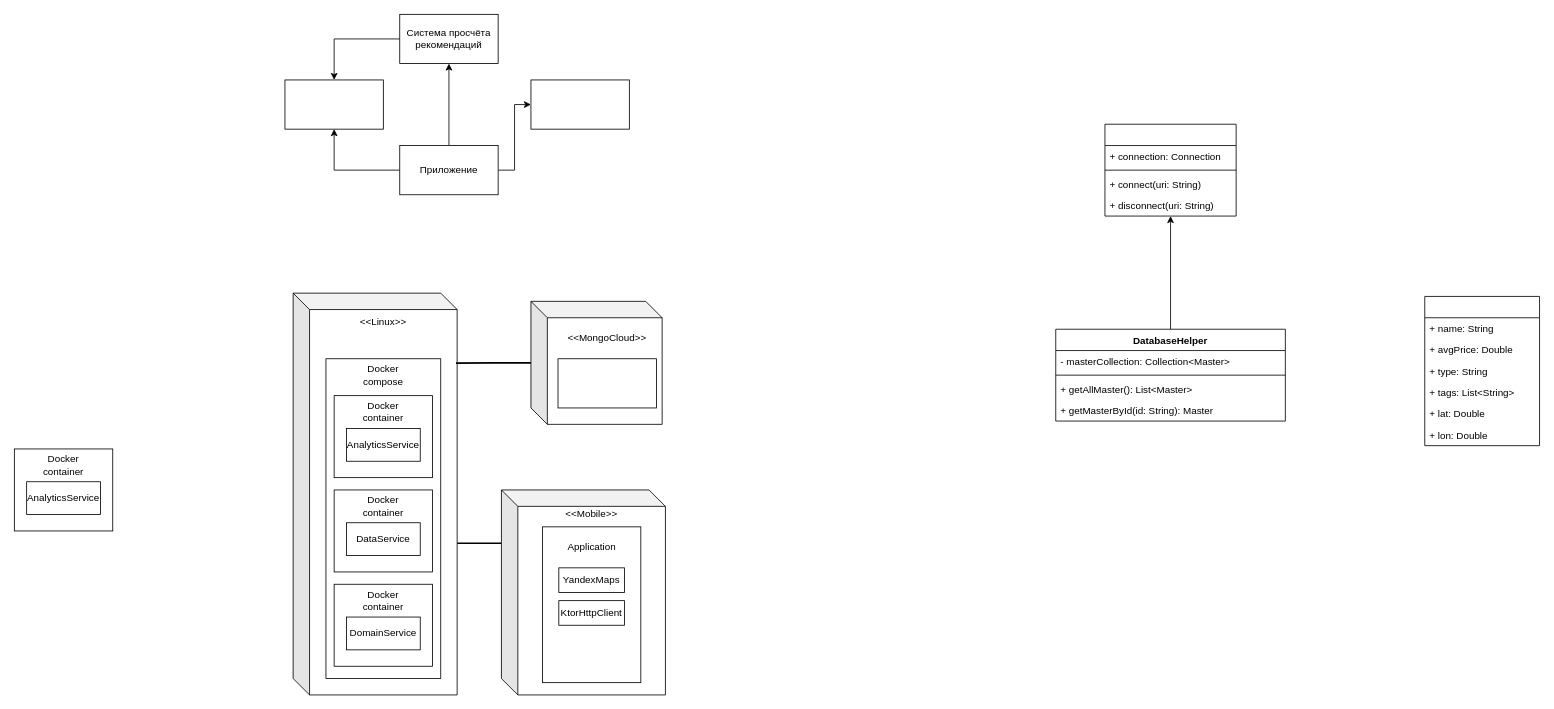
This 1554x709 diagram has some shape labels left out. Here are the shapes that lost their labels. From the top down, the box of each, then its label:
(284, 79, 383, 129): Хранилище данных
(530, 79, 629, 129): ГИС система для визуализации
(1104, 123, 1236, 216): KMongoConnector
(557, 358, 656, 408): MongoDB
(1424, 296, 1540, 446): Master
